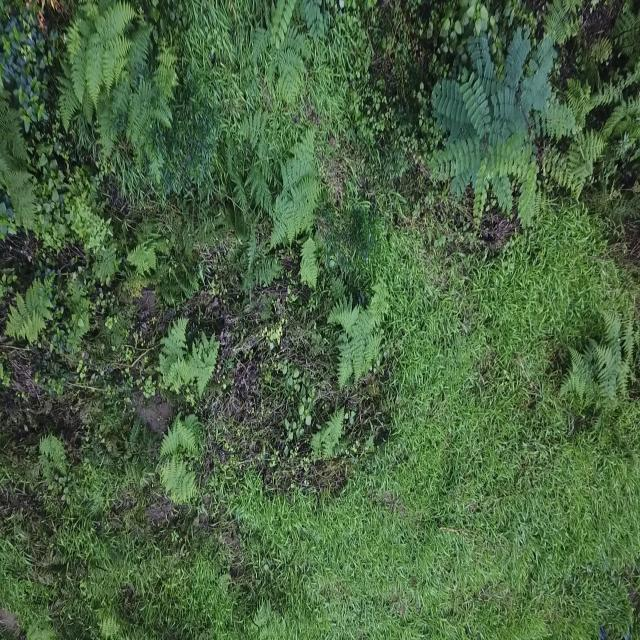Mysore-Thorn-Weed: (438, 28, 559, 224)
